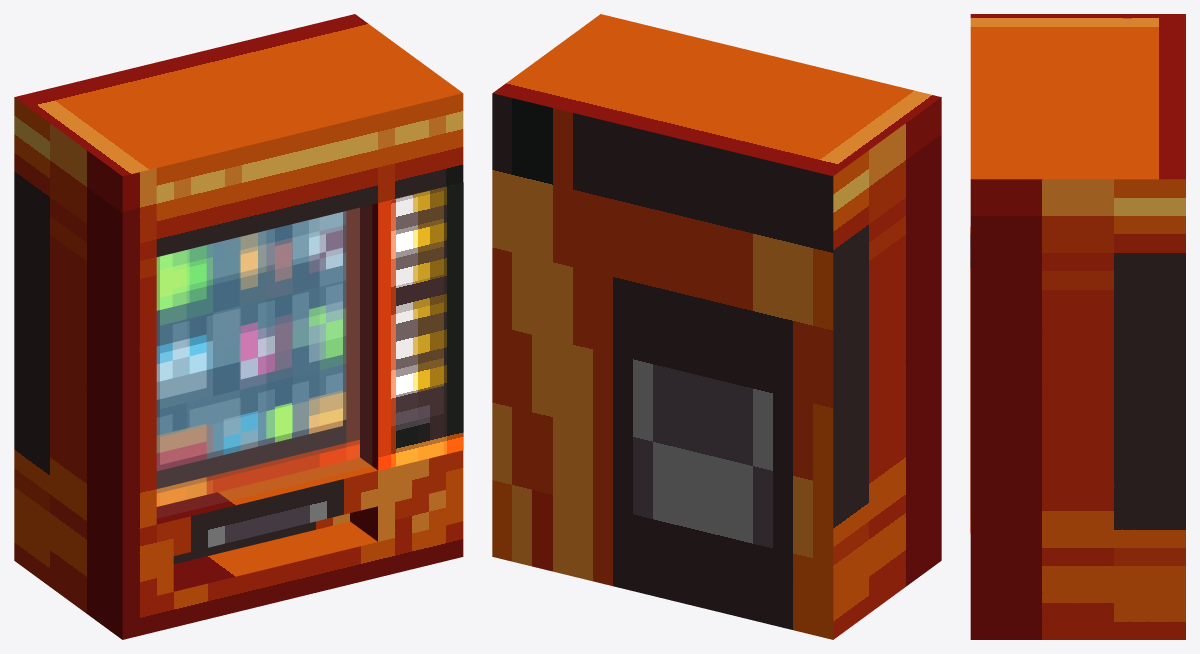
The model's file is vending_snackorange.glb.
3 views of the same model, side by side, from view 1: azimuth 30°, elevation 25°; view 2: azimuth 150°, elevation 25°; view 3: azimuth 270°, elevation 25° (orthographic).
Parts seen in each view (by area): view 1: vending_snackorange_Cabinet, vending_snackorange, vending_snackorange_Display_Glass, vending_snackorange_Delivery_Flap; view 2: vending_snackorange_Cabinet; view 3: vending_snackorange_Cabinet.
Part boxes in pixels (x1=…): vending_snackorange_Cabinet: x1=14, y1=14, x2=463, y2=639; vending_snackorange: x1=156, y1=182, x2=463, y2=506; vending_snackorange_Display_Glass: x1=157, y1=205, x2=371, y2=517; vending_snackorange_Delivery_Flap: x1=173, y1=513, x2=349, y2=564; vending_snackorange_Cabinet: x1=492, y1=14, x2=941, y2=639; vending_snackorange_Cabinet: x1=970, y1=14, x2=1185, y2=639.
Size of the model in its own units: 1.2 by 1.56 by 0.662.
Materials: 4 (3 with a texture image).
